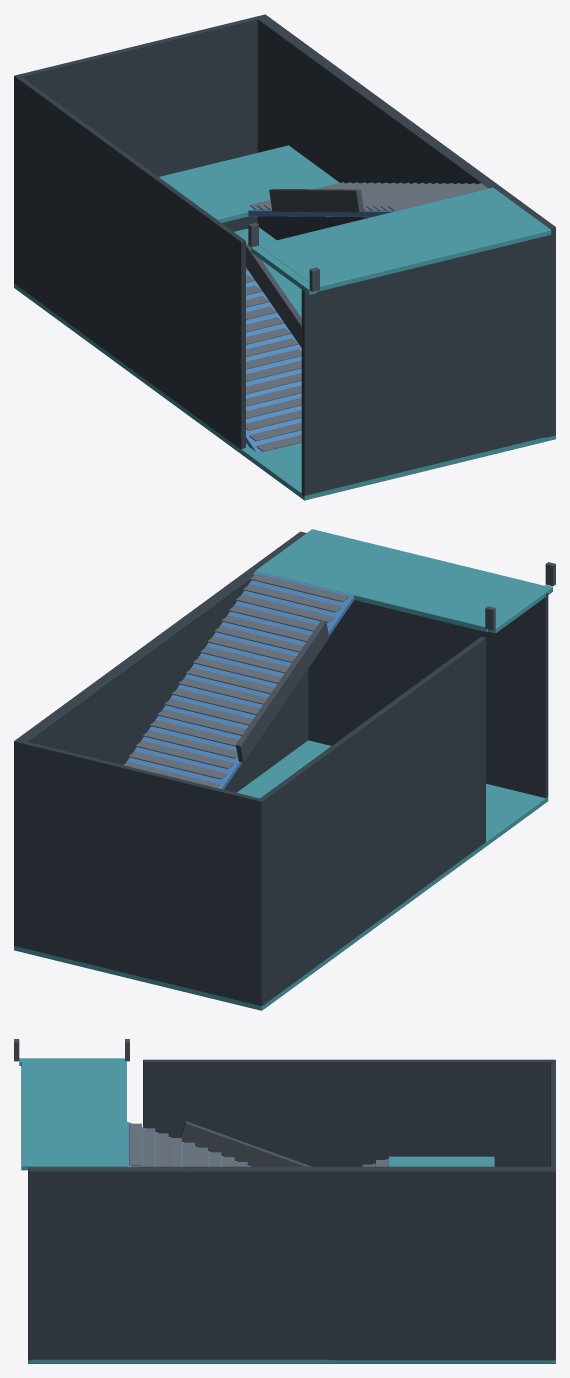
The model's file is env_tower_stairwell_rooftop_12m_top3d_v001.glb.
The picture shows the model from 3 angles, top to bottom: view 1: azimuth 30°, elevation 25°; view 2: azimuth 150°, elevation 25°; view 3: azimuth 270°, elevation 25°; orthographic projection. The views are drawn at different scales.
Parts seen in each view (by area): view 1: Stair_Special_Rooftop_EnclosureWall_DoorSide, Stair_Special_Rooftop_EnclosureWall_Inner, Stair_Special_Rooftop_EnclosureWall_Far, Stair_Special_Rooftop_EnclosureWall_Outer, Stair_Special_Rooftop_UpperDoorLanding_Walkable, Stair_Special_Rooftop_TurnLanding_Walkable, Stair_Special_Rooftop_LowerDoorLanding_Walkable, Stair_Special_Rooftop_LowerFlight_Walkable, Stair_Special_Rooftop_UpperFlight_Guard_02, Stair_Special_Rooftop_LowerFlight_Guard_02, Stair_Special_Rooftop_UpperFlight_Walkable, Stair_Special_Rooftop_CoreConnector_Walkable (+1 smaller); view 2: Stair_Special_Rooftop_EnclosureWall_Far, Stair_Special_Rooftop_EnclosureWall_Inner, Stair_Special_Rooftop_EnclosureWall_DoorSide, Stair_Special_Rooftop_EnclosureWall_Outer, Stair_Special_Rooftop_UpperDoorLanding_Walkable, Stair_Special_Rooftop_UpperFlight_Walkable, Stair_Special_Rooftop_LowerDoorLanding_Walkable, Stair_Special_Rooftop_UpperFlight_Guard_02, Stair_Special_Rooftop_ROOT_UpperFlight_Tread_01, Stair_Special_Rooftop_ROOT_UpperFlight_Tread_02, Stair_Special_Rooftop_ROOT_UpperFlight_Tread_17, Stair_Special_Rooftop_ROOT_UpperFlight_Tread_18 (+15 smaller); view 3: Stair_Special_Rooftop_EnclosureWall_Outer, Stair_Special_Rooftop_EnclosureWall_Inner, Stair_Special_Rooftop_UpperDoorLanding_Walkable, Stair_Special_Rooftop_LowerDoorLanding_Walkable, Stair_Special_Rooftop_UpperFlight_Guard_02, Stair_Special_Rooftop_TurnLanding_Walkable, Stair_Special_Rooftop_EnclosureWall_DoorSide, Stair_Special_Rooftop_EnclosureWall_Far, Stair_Special_Rooftop_ROOT_UpperFlight_Tread_01, Stair_Special_Rooftop_ROOT_UpperFlight_Tread_02, Stair_Special_Rooftop_ROOT_UpperFlight_Tread_03, Stair_Special_Rooftop_CoreConnector_Walkable.
Boxes of the visible parts, x1=… form: Stair_Special_Rooftop_EnclosureWall_DoorSide: x1=301, y1=225, x2=555, y2=496; Stair_Special_Rooftop_EnclosureWall_Inner: x1=15, y1=74, x2=245, y2=448; Stair_Special_Rooftop_EnclosureWall_Far: x1=14, y1=14, x2=267, y2=284; Stair_Special_Rooftop_EnclosureWall_Outer: x1=257, y1=14, x2=555, y2=437; Stair_Special_Rooftop_UpperDoorLanding_Walkable: x1=258, y1=187, x2=551, y2=291; Stair_Special_Rooftop_TurnLanding_Walkable: x1=159, y1=145, x2=339, y2=222; Stair_Special_Rooftop_LowerDoorLanding_Walkable: x1=14, y1=227, x2=555, y2=500; Stair_Special_Rooftop_LowerFlight_Walkable: x1=246, y1=267, x2=301, y2=451; Stair_Special_Rooftop_UpperFlight_Guard_02: x1=269, y1=189, x2=363, y2=212; Stair_Special_Rooftop_LowerFlight_Guard_02: x1=246, y1=244, x2=301, y2=347; Stair_Special_Rooftop_UpperFlight_Walkable: x1=248, y1=187, x2=491, y2=217; Stair_Special_Rooftop_CoreConnector_Walkable: x1=251, y1=246, x2=316, y2=294; Stair_Special_Rooftop_EnclosureWall_Far: x1=14, y1=739, x2=264, y2=1005; Stair_Special_Rooftop_EnclosureWall_Inner: x1=257, y1=636, x2=485, y2=1005; Stair_Special_Rooftop_EnclosureWall_DoorSide: x1=298, y1=531, x2=548, y2=798; Stair_Special_Rooftop_EnclosureWall_Outer: x1=14, y1=532, x2=308, y2=947; Stair_Special_Rooftop_UpperDoorLanding_Walkable: x1=255, y1=529, x2=543, y2=632; Stair_Special_Rooftop_UpperFlight_Walkable: x1=126, y1=571, x2=354, y2=789; Stair_Special_Rooftop_LowerDoorLanding_Walkable: x1=14, y1=740, x2=548, y2=1010; Stair_Special_Rooftop_UpperFlight_Guard_02: x1=235, y1=620, x2=329, y2=762; Stair_Special_Rooftop_ROOT_UpperFlight_Tread_01: x1=250, y1=573, x2=349, y2=601; Stair_Special_Rooftop_ROOT_UpperFlight_Tread_02: x1=243, y1=584, x2=341, y2=612; Stair_Special_Rooftop_ROOT_UpperFlight_Tread_17: x1=135, y1=740, x2=234, y2=768; Stair_Special_Rooftop_ROOT_UpperFlight_Tread_18: x1=128, y1=751, x2=226, y2=779; Stair_Special_Rooftop_EnclosureWall_Outer: x1=28, y1=1166, x2=555, y2=1360; Stair_Special_Rooftop_EnclosureWall_Inner: x1=143, y1=1059, x2=555, y2=1166; Stair_Special_Rooftop_UpperDoorLanding_Walkable: x1=21, y1=1061, x2=126, y2=1170; Stair_Special_Rooftop_LowerDoorLanding_Walkable: x1=28, y1=1359, x2=555, y2=1363; Stair_Special_Rooftop_UpperFlight_Guard_02: x1=180, y1=1121, x2=311, y2=1166; Stair_Special_Rooftop_TurnLanding_Walkable: x1=389, y1=1156, x2=494, y2=1166; Stair_Special_Rooftop_EnclosureWall_DoorSide: x1=28, y1=1167, x2=32, y2=1360; Stair_Special_Rooftop_EnclosureWall_Far: x1=550, y1=1059, x2=555, y2=1170; Stair_Special_Rooftop_ROOT_UpperFlight_Tread_01: x1=129, y1=1123, x2=141, y2=1165; Stair_Special_Rooftop_ROOT_UpperFlight_Tread_02: x1=142, y1=1128, x2=155, y2=1166; Stair_Special_Rooftop_ROOT_UpperFlight_Tread_03: x1=156, y1=1133, x2=168, y2=1166; Stair_Special_Rooftop_CoreConnector_Walkable: x1=19, y1=1058, x2=124, y2=1065.
Size of the model in its own units: 15 by 13.46 by 30.8.
